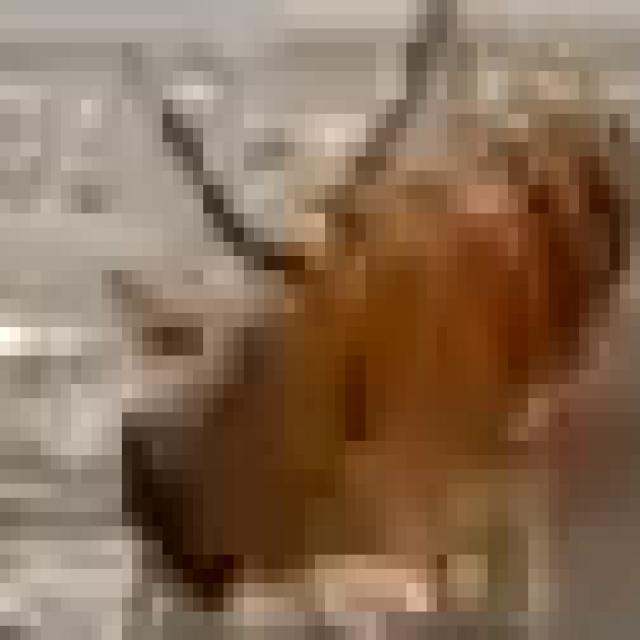honeybee: (84, 60, 638, 604)
